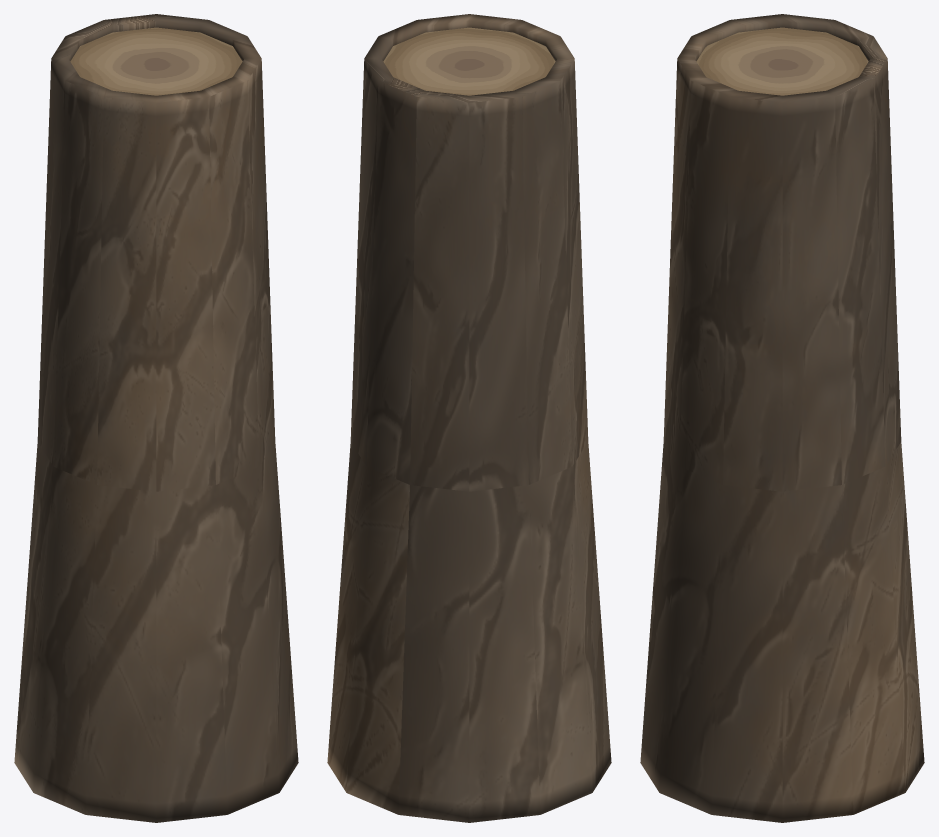
Rendered from tree01_log_small.fbx.
3 views of the same model, side by side, from view 1: azimuth 30°, elevation 25°; view 2: azimuth 150°, elevation 25°; view 3: azimuth 270°, elevation 25° (orthographic).
Parts seen in each view (by area): view 1: Cylinder.009; view 2: Cylinder.009; view 3: Cylinder.009.
Boxes of the visible parts, x1=… form: Cylinder.009: x1=14, y1=14, x2=298, y2=822; Cylinder.009: x1=327, y1=14, x2=611, y2=822; Cylinder.009: x1=640, y1=14, x2=924, y2=822.
Bounding box in the file's own units: 27.33 × 74.76 × 27.33.
